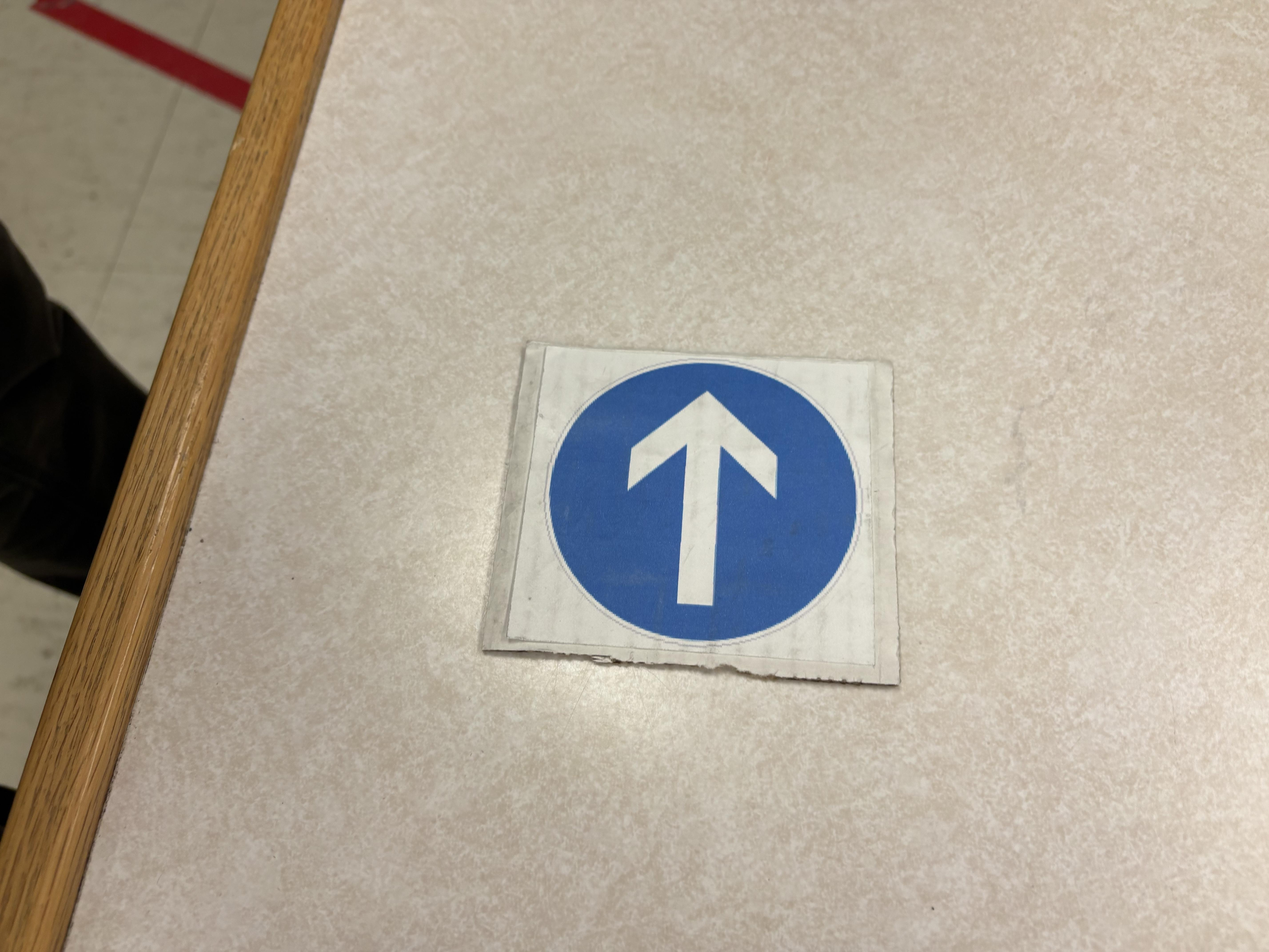Proceed Forward: (476, 342, 900, 686)
